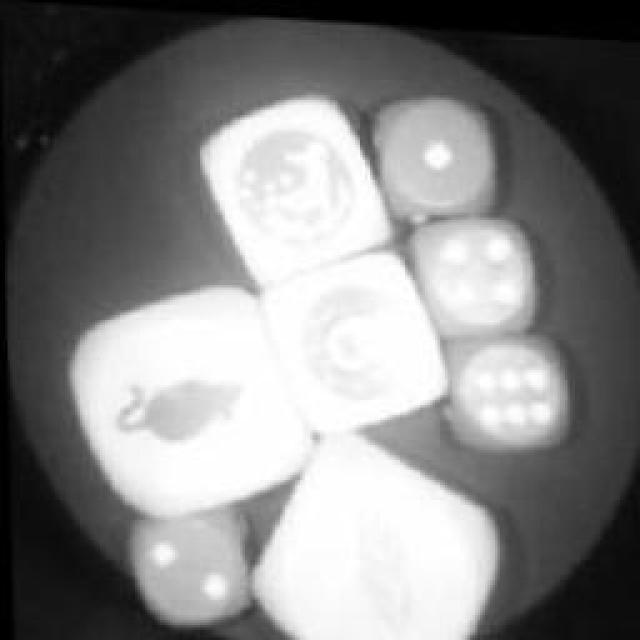dice_1: (360, 80, 510, 232)
dice_2: (115, 487, 272, 640)
dice_5: (400, 202, 548, 342)
dice_6: (440, 322, 582, 462)
